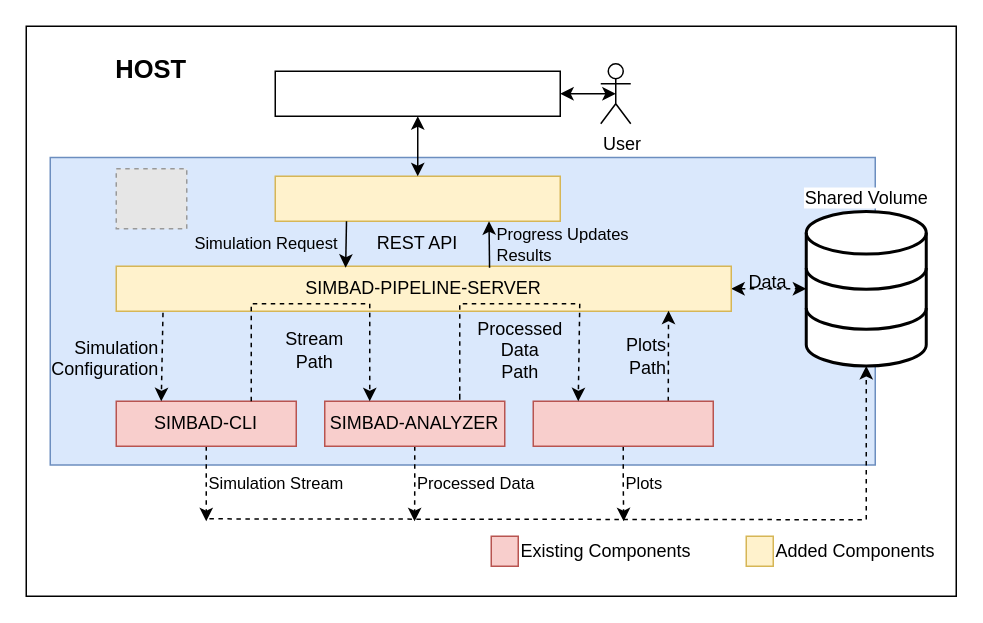
The diagram is 983 pixels wide and 623 high, and some of its shapes have lost their labels. Grey dashed boxes stand in for pictures. Each missing label, with the centre of its shape:
"BROWSER" goes at [417,93].
"SIMBAD-CLIENT" goes at [417,198].
"SIMBAD-REPORTS" goes at [622,423].
